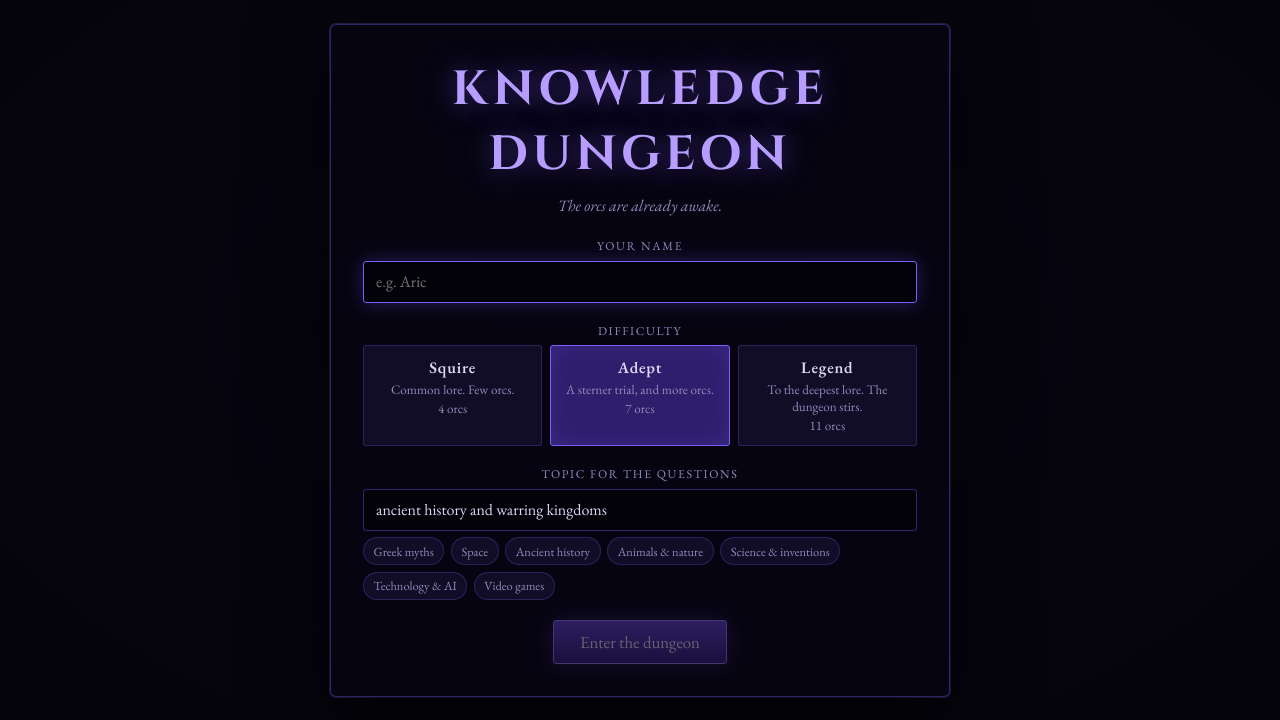
Scenario: SetupScreen › prefills the topic from the chosen difficulty
Check: the field with test id "topic-input" holds "ancient history and warring kingdoms", box [363,489,917,531]
Click the button with test id "difficulty-legend". click: (827, 396)
box: [738,345,917,446]
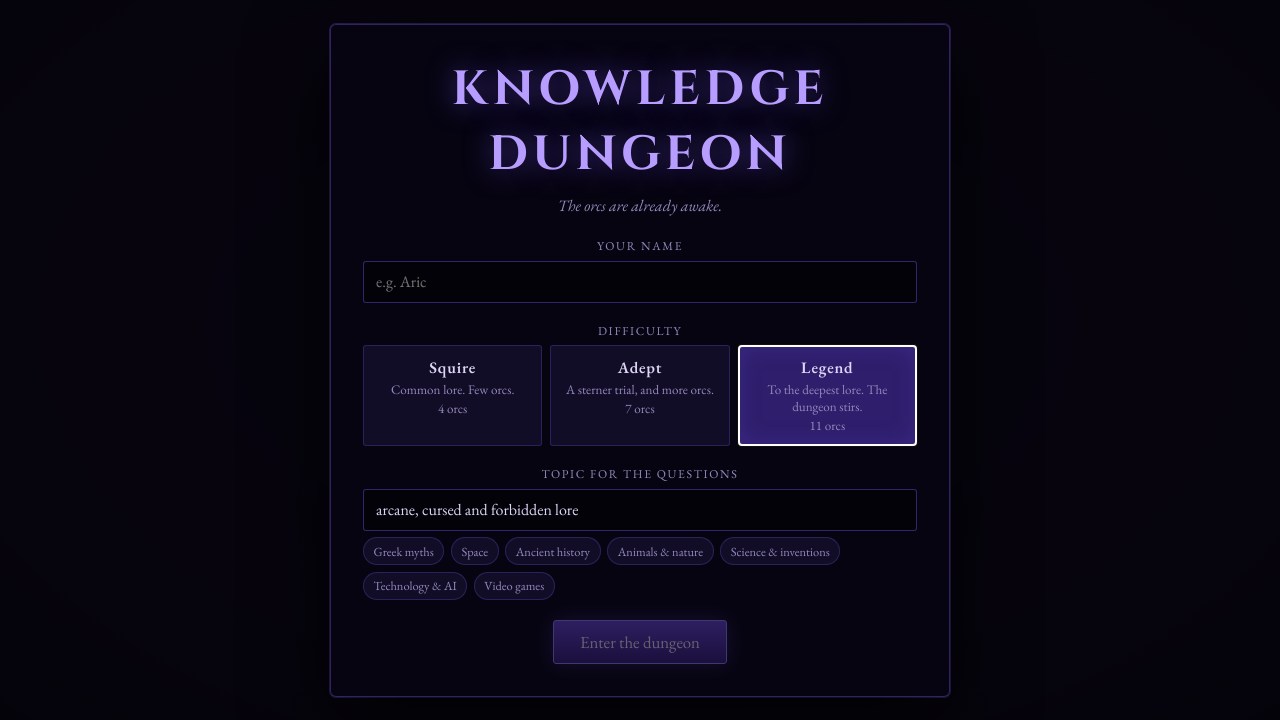
Check: the field with test id "topic-input" holds "arcane, cursed and forbidden lore", box [363,489,917,531]
